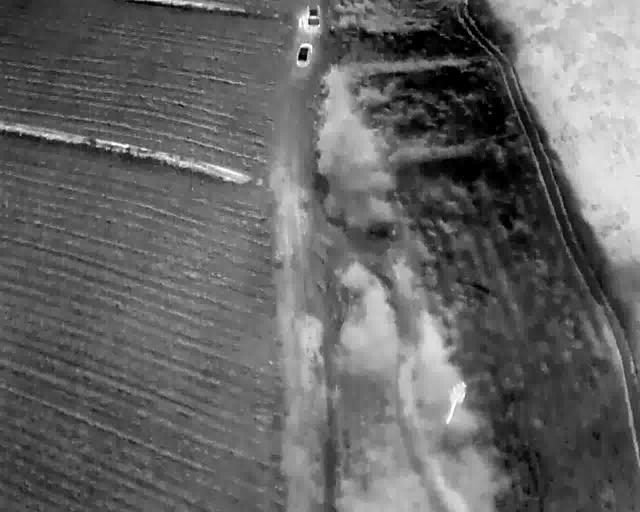car: (305, 4, 319, 31), (297, 43, 311, 67)
person: (298, 16, 302, 28)
